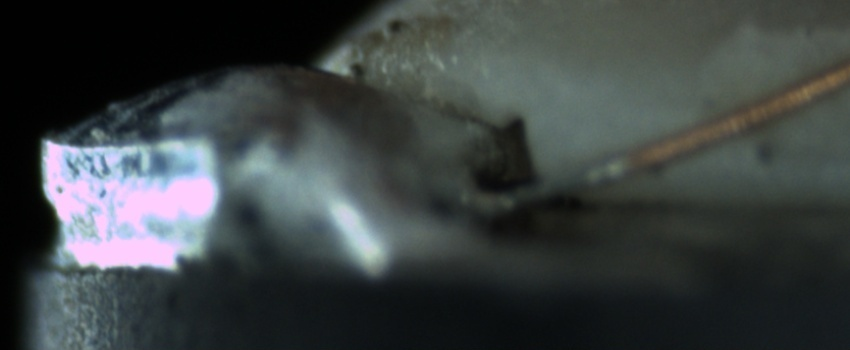TS: (488, 154, 637, 210)
